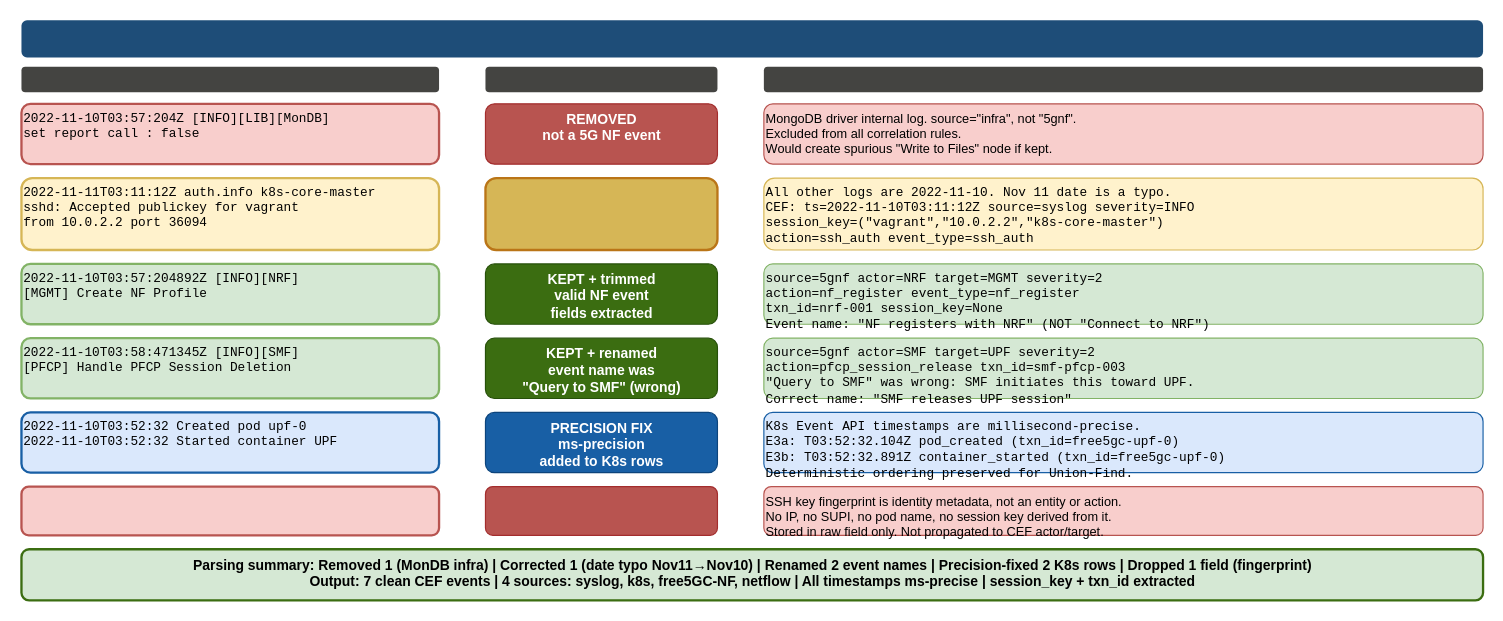
Image size: 1503x621. Some labels were removed from this diagram. The shapes that lost their labels are listed below. From the top down, each one's centre as x and y in pixels, then its label:
the point at 751,38: Log Parsing Pipeline — Raw Input → Filtering Decisions → CEF Output
the point at 229,79: Raw log (input)
the point at 601,79: Decision
the point at 1122,79: Reason / CEF field output
the point at 601,213: CORRECTED date typo: Nov 11 → Nov 10
the point at 230,510: … RSA SHA256:1M4RzhMyWuFS:/> … (SSH key fingerprint field)
the point at 600,510: FIELD DROPPED no correlation value
